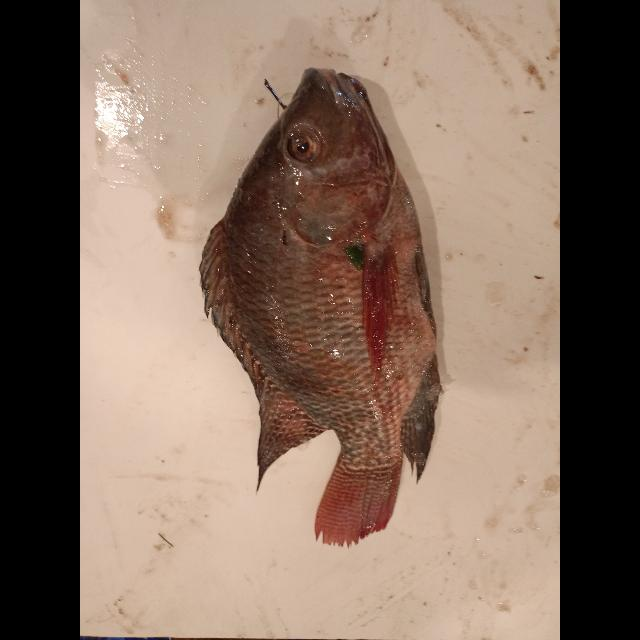Tilapia: (200, 68, 442, 548)
